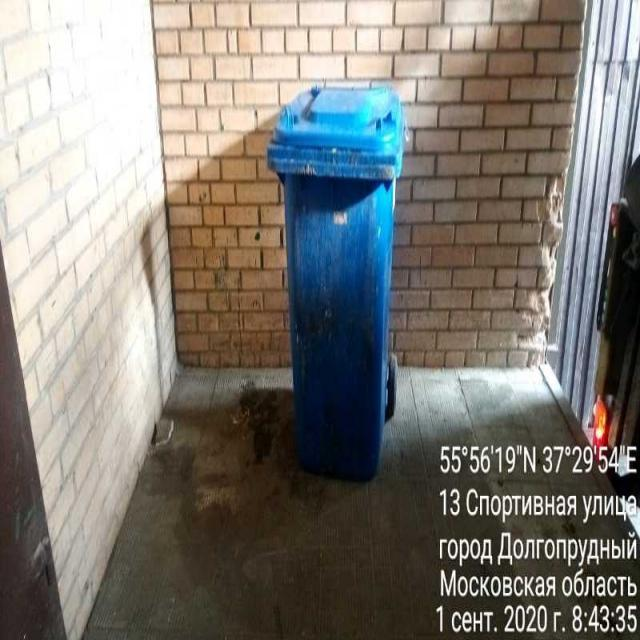Dumpster: (268, 81, 402, 484)
